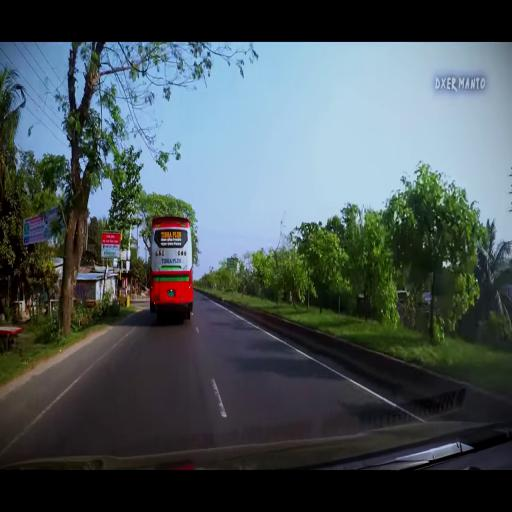bus: (148, 215, 195, 325)
